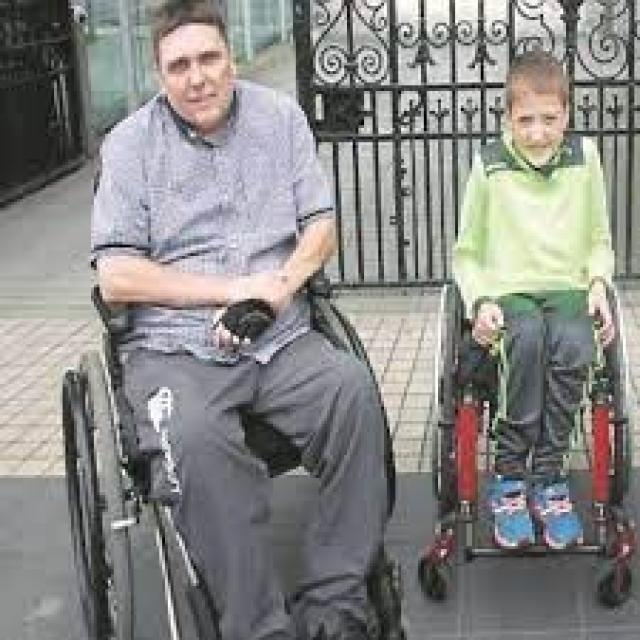wheelchairs: (40, 205, 452, 640), (400, 236, 637, 640)
